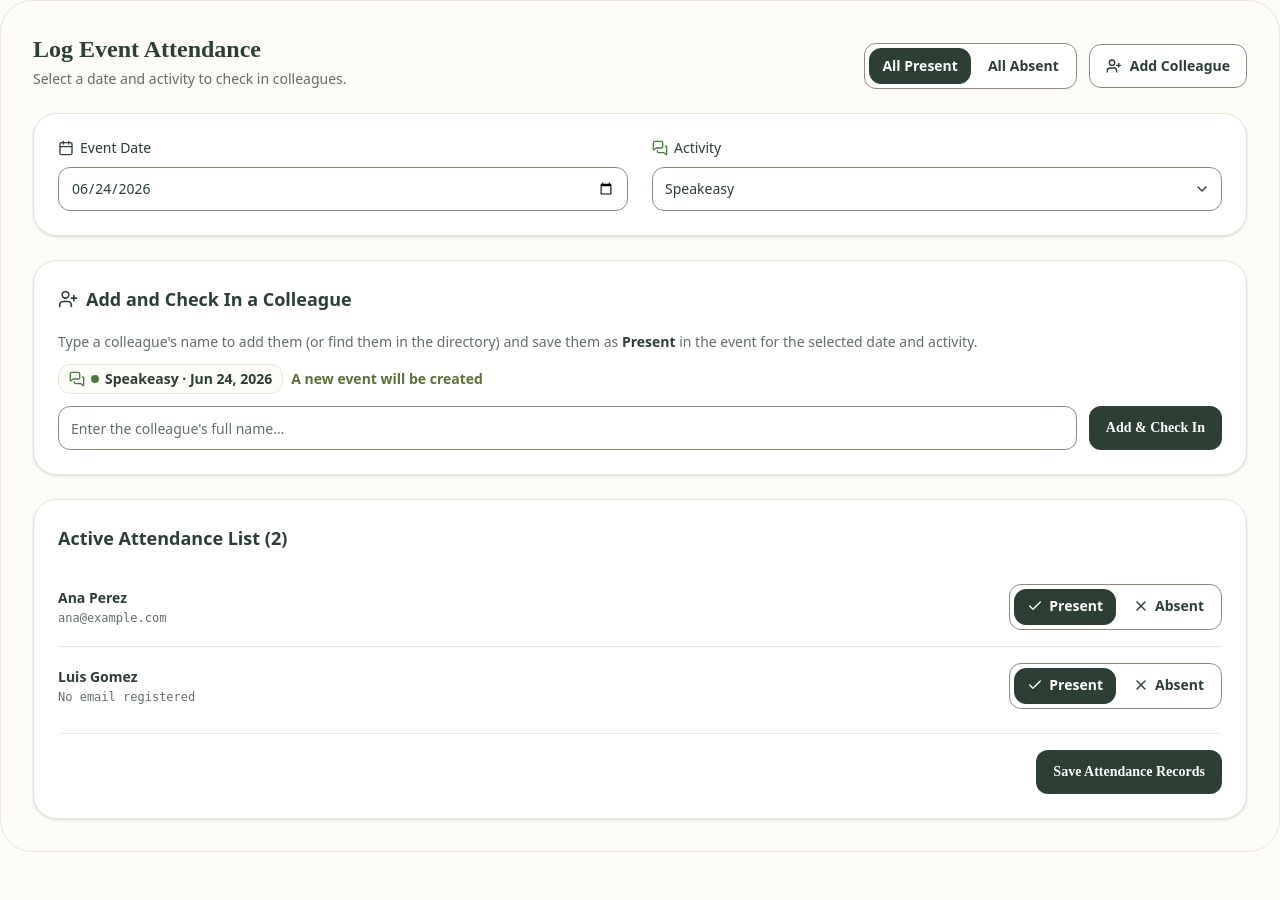
Test: US-60: Manual Check-In › a successful check-in is announced in the global toast region
In the field named "Colleague name": (567, 428) [58,406,1077,450], type "Jean Dupont"
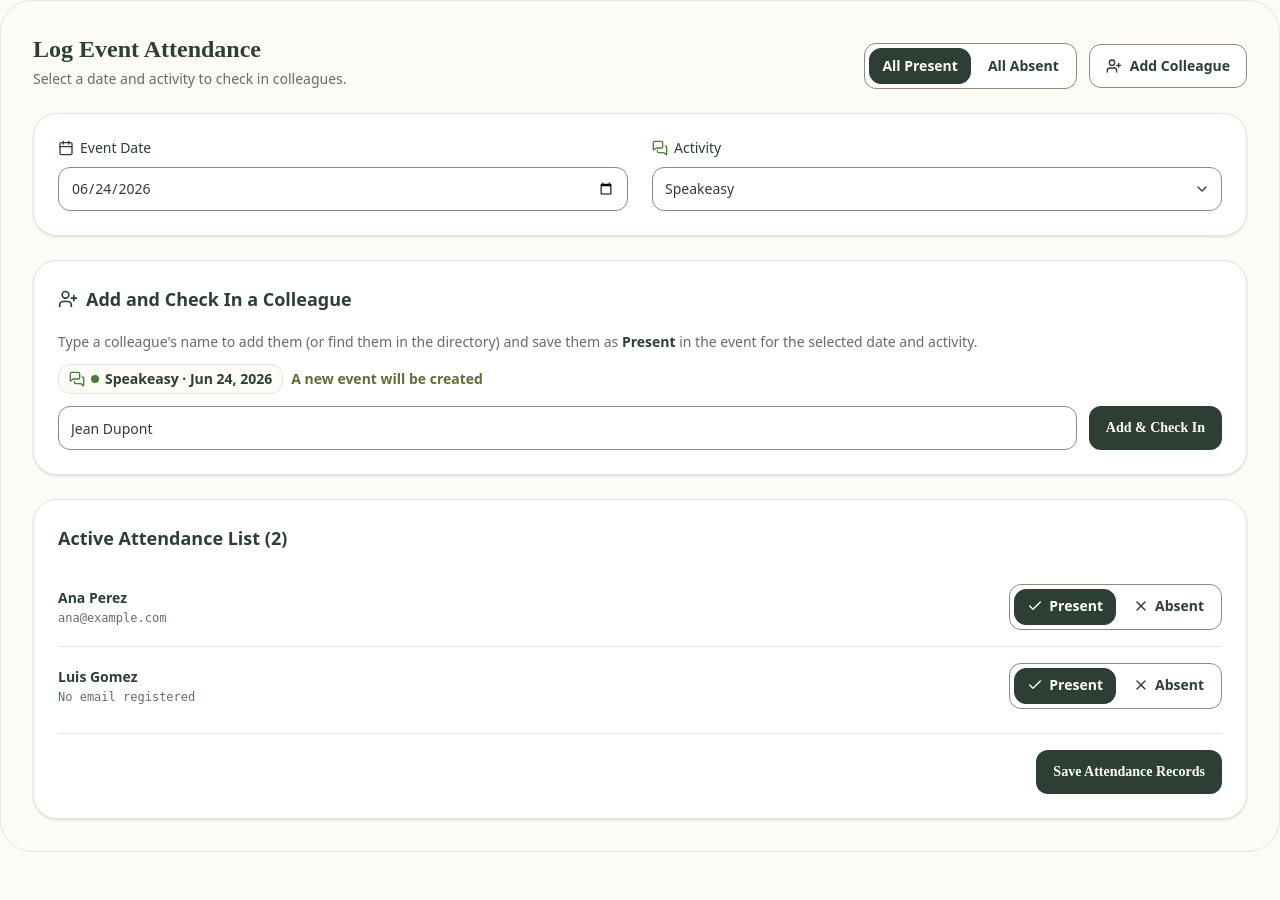
Click the button "Add & Check In": (1155, 428) [1089,406,1222,450]
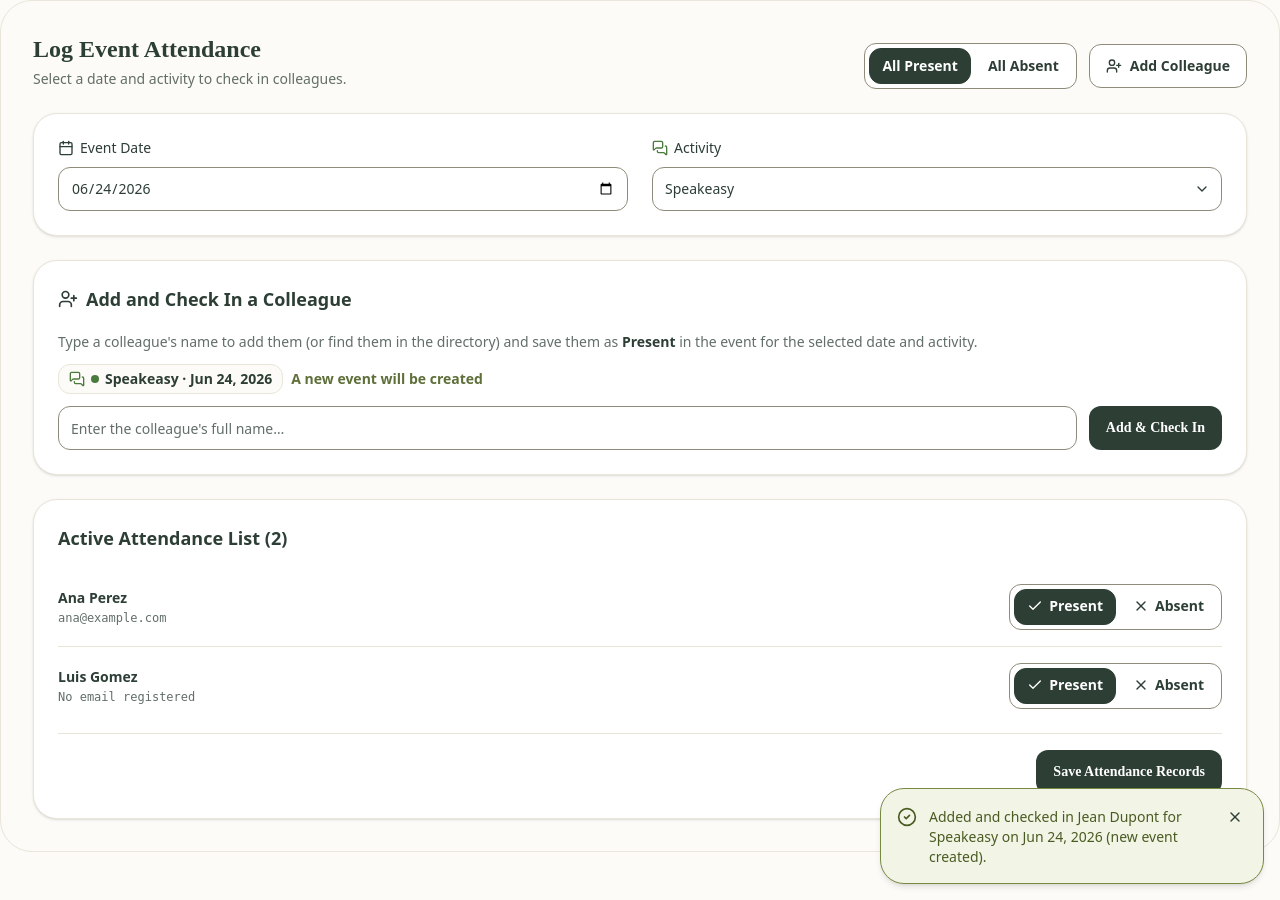
Expected: the message is shown, [880,788,1264,884]
